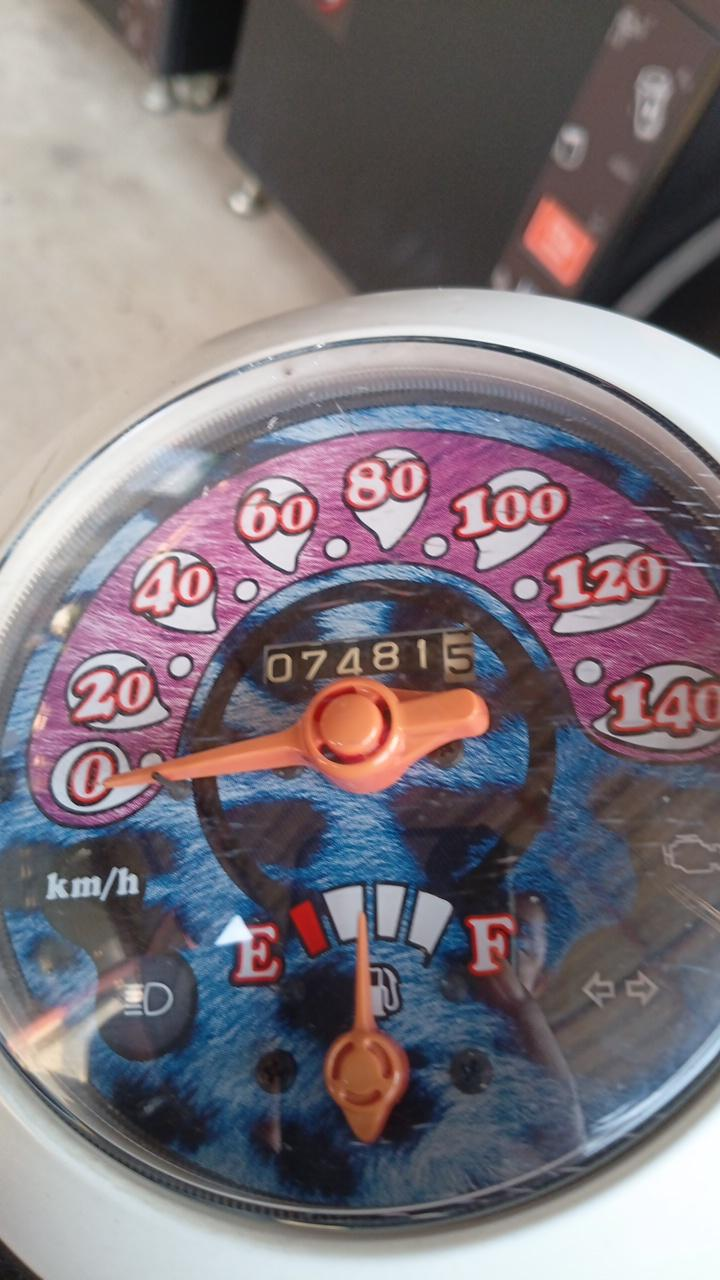0: (266, 652, 292, 684)
1: (415, 637, 427, 670)
4: (334, 645, 364, 677)
5: (446, 641, 475, 675)
7: (300, 649, 328, 682)
8: (371, 641, 400, 671)
odometer: (260, 626, 479, 687)
